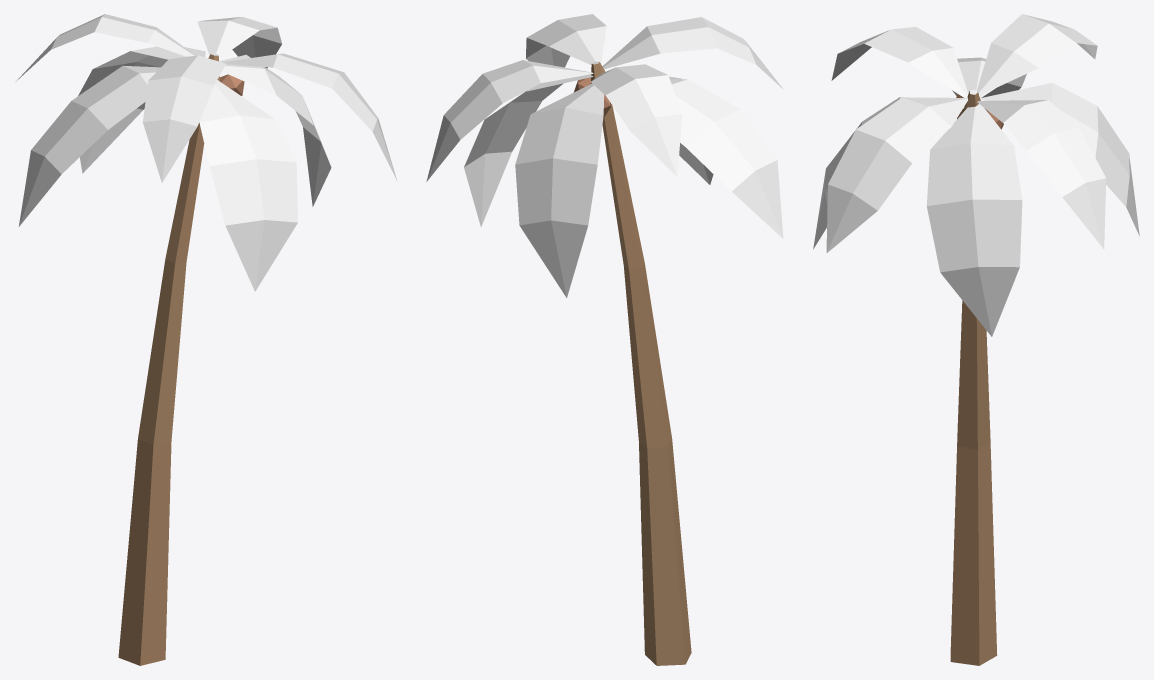
Rendered from Palm_Tree_Coconut_OneSided_m_Snow_02_LOD.fbx.
The picture shows the model from 3 angles, left to right: view 1: azimuth 30°, elevation 25°; view 2: azimuth 150°, elevation 25°; view 3: azimuth 270°, elevation 25°; orthographic projection. The views are drawn at different scales.
Visible parts, largest first — view 1: Palm_Tree_Coconut_OneSided_m_Snow_02_LOD0; view 2: Palm_Tree_Coconut_OneSided_m_Snow_02_LOD0; view 3: Palm_Tree_Coconut_OneSided_m_Snow_02_LOD0.
Boxes of the visible parts, x1,y1,x2,y2 form: Palm_Tree_Coconut_OneSided_m_Snow_02_LOD0: (16,14,397,665); Palm_Tree_Coconut_OneSided_m_Snow_02_LOD0: (426,14,783,665); Palm_Tree_Coconut_OneSided_m_Snow_02_LOD0: (813,14,1139,665).
Size of what is drawn, in the model's own units: 334 by 630 by 296.
